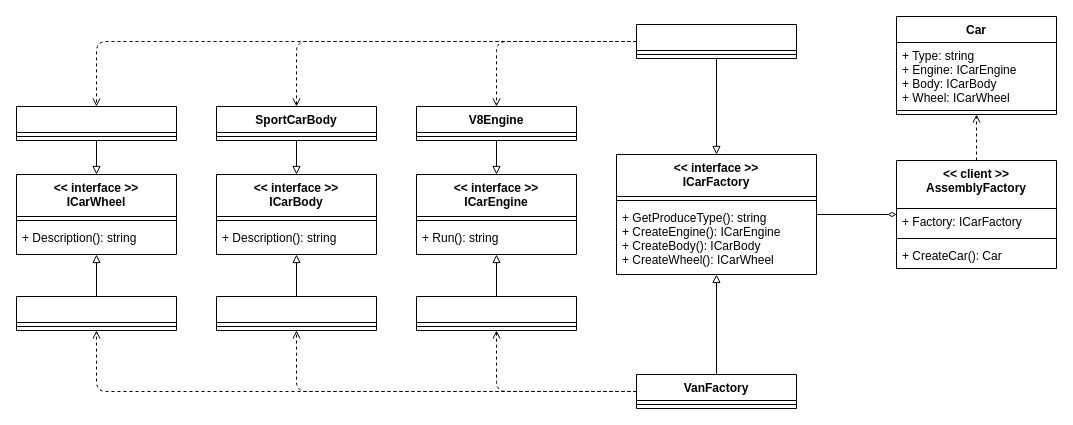
Image size: 1073x425. Some labels were removed from this diagram. The centre of each missing label's shape, as x and y in pixels:
"BigWideWheel" belongs at point (96, 123).
"RegularEngine" belongs at point (496, 313).
"RegularSizeWheel" belongs at point (96, 313).
"SportCarFactory" belongs at point (716, 41).
"VanBody" belongs at point (296, 313).
